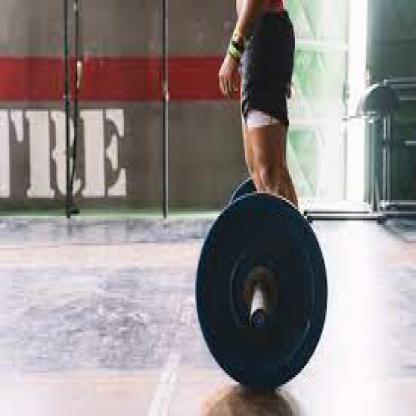Barbell: (192, 189, 330, 396)
